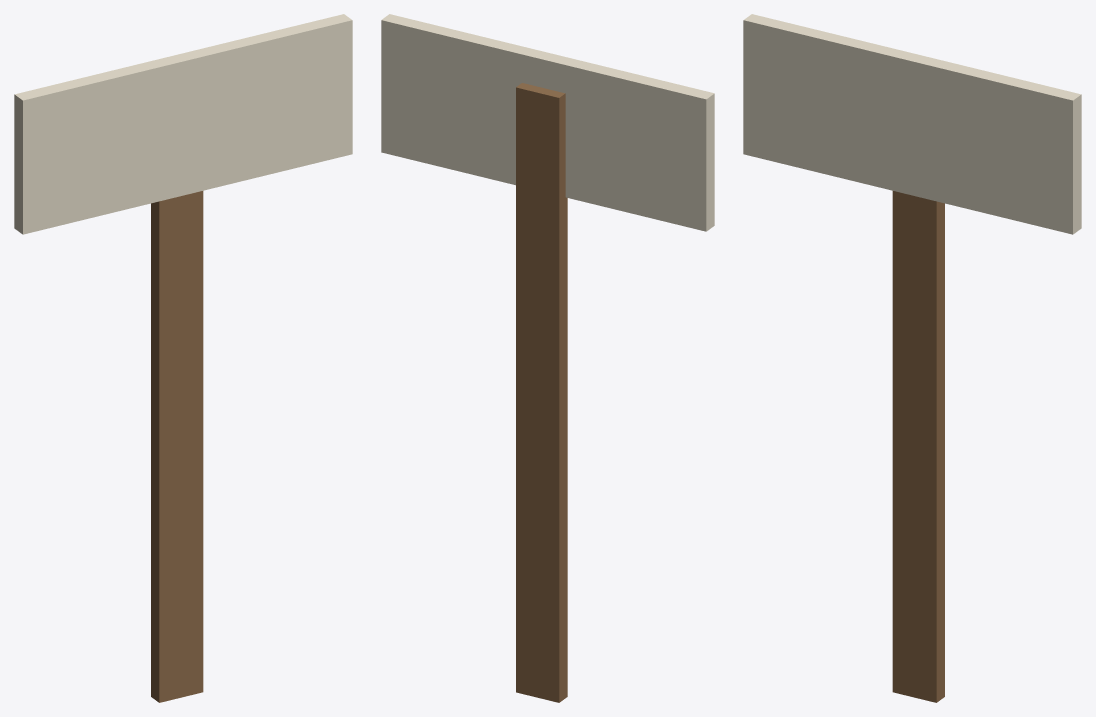
The model's file is Prop_OrchidTag.fbx.
3 views of the same model, side by side, from view 1: azimuth 30°, elevation 25°; view 2: azimuth 150°, elevation 25°; view 3: azimuth 330°, elevation 25° (orthographic).
Parts seen in each view (by area): view 1: OrchidTag_Label, OrchidTag_Stake; view 2: OrchidTag_Label, OrchidTag_Stake; view 3: OrchidTag_Label, OrchidTag_Stake.
Part boxes in pixels (x1,y1,x2,y2): OrchidTag_Label: (14, 14, 352, 234); OrchidTag_Stake: (151, 191, 203, 702); OrchidTag_Label: (381, 14, 714, 231); OrchidTag_Stake: (516, 83, 567, 702); OrchidTag_Label: (743, 14, 1081, 234); OrchidTag_Stake: (892, 191, 944, 702).
Size of the model in its own units: 0.09 by 0.1675 by 0.007.
